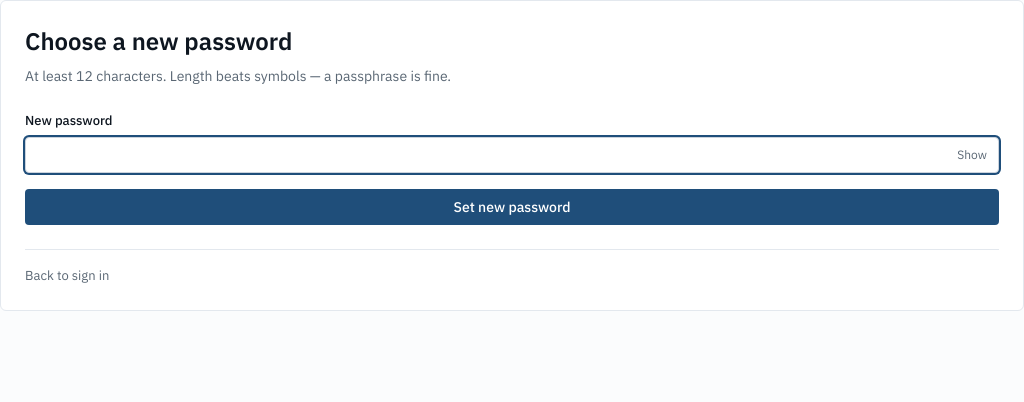
Test: ResetPasswordScreen — the four required states › ERROR: an expired token shows the message and the request ID
The image size is (1024, 402).
Type "correct horse battery" into the password field labelled "New password" at (512, 155), box [25, 137, 999, 173]
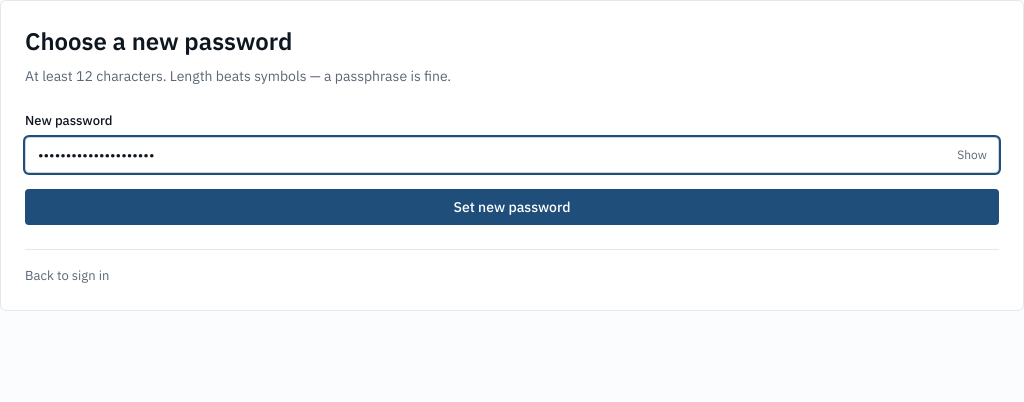
Click the button "Set new password" at (512, 207), box [25, 189, 999, 225]
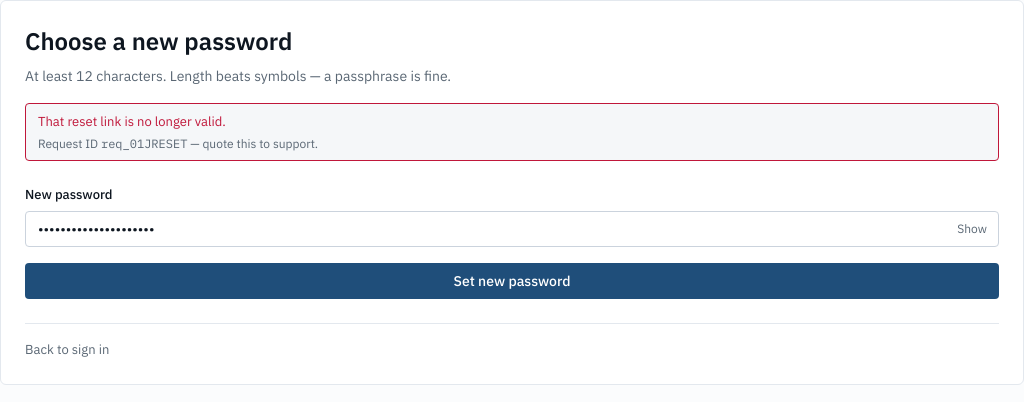
Expected: the message shows "That reset link is no longer valid.", [38, 113, 226, 130]
Expected: the message shows "req_01JRESET", [101, 136, 187, 151]
